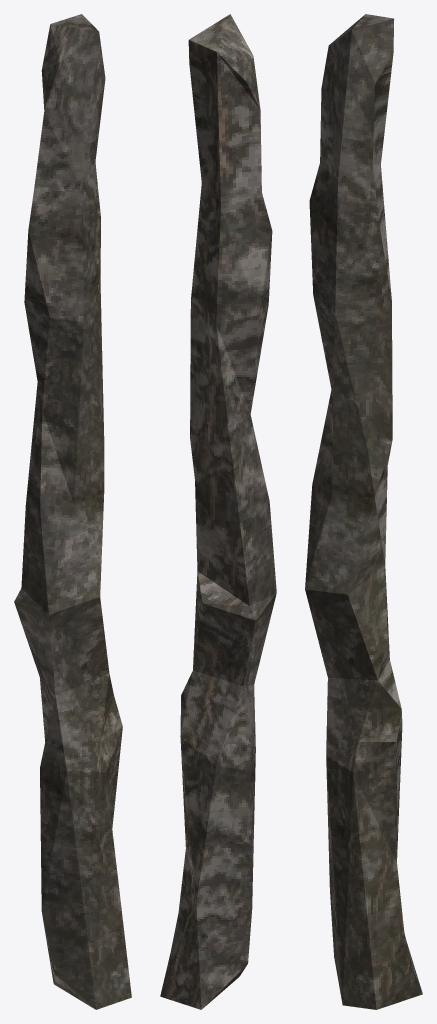
Rendered from item_treestick.glb.
3 views of the same model, side by side, from view 1: azimuth 30°, elevation 25°; view 2: azimuth 150°, elevation 25°; view 3: azimuth 330°, elevation 25° (orthographic).
Parts seen in each view (by area): view 1: TreeStick; view 2: TreeStick; view 3: TreeStick.
Part boxes in pixels (x1,y1,x2,y2): TreeStick: [14, 14, 131, 1009]; TreeStick: [160, 14, 276, 1009]; TreeStick: [305, 14, 422, 1009].
Size of the model in its own units: 0.0684 by 0.6699 by 0.0543.
Materials: 1 (1 with a texture image).
